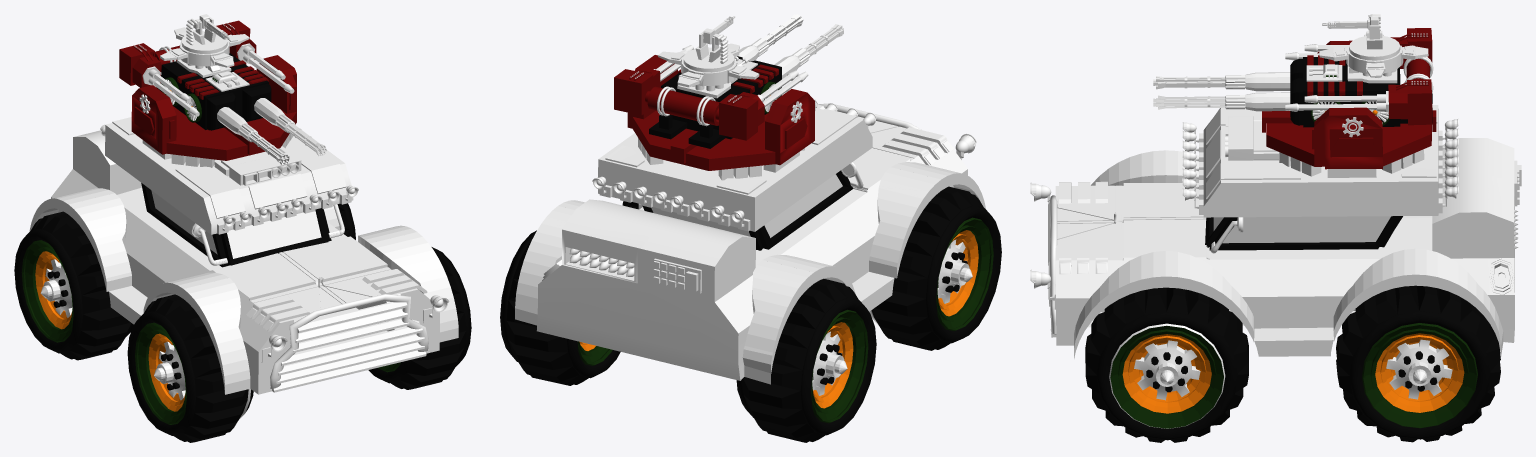
The model's file is FinalCar 1.fbx.
The picture shows the model from 3 angles, left to right: view 1: azimuth 30°, elevation 25°; view 2: azimuth 150°, elevation 25°; view 3: azimuth 270°, elevation 25°; orthographic projection. The views are drawn at different scales.
Parts seen in each view (by area): view 1: CAR_BODY1, MATCHIN_GUN, FRONT_RIGHT_WHEEL1, BACK_RIGHT_WHEEL1, FRONT_LEFT_WHEL, SIDE_GUN1, UPPER_GUN_polySurface23, FRONT_GUN1; view 2: CAR_BODY1, BACK_RIGHT_WHEEL1, FRONT_RIGHT_WHEEL1, MATCHIN_GUN, Back_Left_Wheel, SIDE_GUN1, UPPER_GUN_polySurface23, FRONT_GUN1; view 3: CAR_BODY1, FRONT_LEFT_WHEL, Back_Left_Wheel, MATCHIN_GUN, SIDE_GUN1, FRONT_GUN1, UPPER_GUN_polySurface23.
Boxes of the visible parts, x1,y1,x2,y2 form: CAR_BODY1: (29, 117, 458, 394); MATCHIN_GUN: (131, 45, 296, 160); FRONT_RIGHT_WHEEL1: (127, 294, 253, 442); BACK_RIGHT_WHEEL1: (14, 211, 133, 360); FRONT_LEFT_WHEL: (368, 247, 471, 389); SIDE_GUN1: (119, 20, 294, 116); UPPER_GUN_polySurface23: (160, 14, 249, 67); FRONT_GUN1: (217, 98, 326, 165); CAR_BODY1: (515, 90, 985, 384); BACK_RIGHT_WHEEL1: (736, 278, 876, 442); FRONT_RIGHT_WHEEL1: (869, 186, 1001, 350); MATCHIN_GUN: (627, 55, 814, 170); Back_Left_Wheel: (500, 230, 620, 385); SIDE_GUN1: (614, 45, 808, 140); UPPER_GUN_polySurface23: (658, 16, 759, 87); FRONT_GUN1: (738, 14, 843, 78); CAR_BODY1: (1030, 105, 1521, 358); FRONT_LEFT_WHEL: (1085, 287, 1248, 442); Back_Left_Wheel: (1336, 285, 1500, 442); MATCHIN_GUN: (1262, 40, 1436, 169); SIDE_GUN1: (1285, 28, 1432, 125); FRONT_GUN1: (1153, 72, 1290, 111); UPPER_GUN_polySurface23: (1319, 14, 1428, 77).
Bounding box in the file's own units: 1.02 × 1.07 × 1.33.
